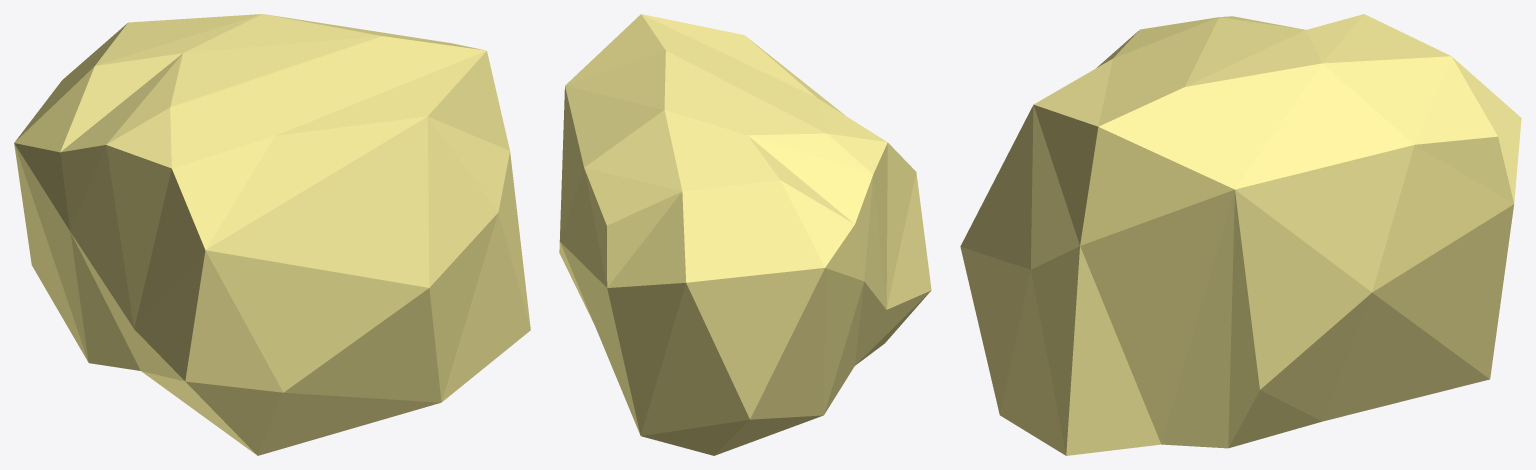
File: Hill_009.glb
3 renders of one model, left to right at view 1: azimuth 30°, elevation 25°; view 2: azimuth 150°, elevation 25°; view 3: azimuth 270°, elevation 25°, orthographic. The views are drawn at different scales.
Parts seen in each view (by area): view 1: Hill_009; view 2: Hill_009; view 3: Hill_009.
Boxes of the visible parts, <box> form: Hill_009: <box>14,14,530,455</box>; Hill_009: <box>559,14,931,455</box>; Hill_009: <box>960,14,1521,455</box>.
Size of the model in its own units: 0.8342 by 0.7104 by 0.9685.
Materials: 1 (1 with a texture image).
